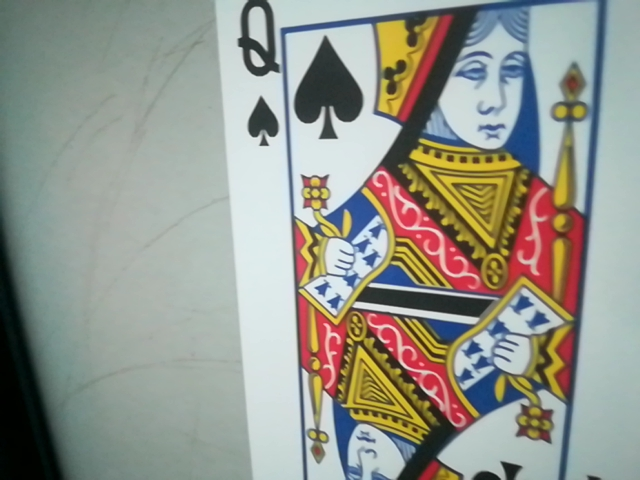ht q: (225, 1, 297, 153)
